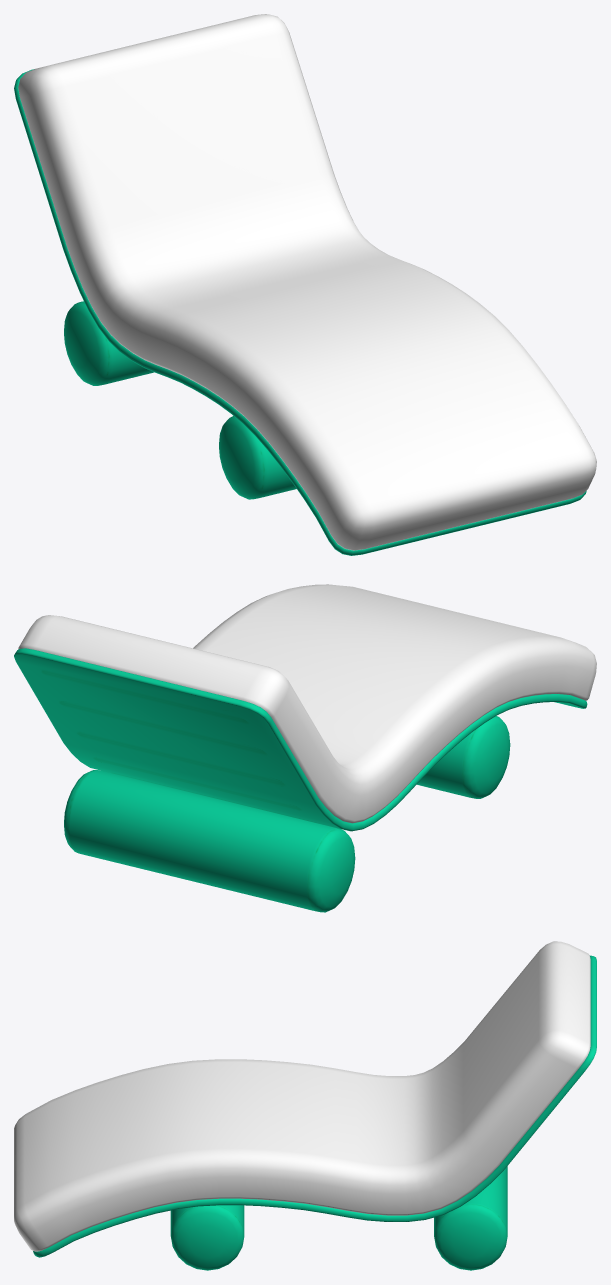
File: PoolLounger02_1.FBX
3 views of the same model, one above another, from view 1: azimuth 30°, elevation 25°; view 2: azimuth 150°, elevation 25°; view 3: azimuth 270°, elevation 25° (orthographic). The views are drawn at different scales.
Parts seen in each view (by area): view 1: PoolLounger02_1; view 2: PoolLounger02_1; view 3: PoolLounger02_1.
Boxes of the visible parts, bbox=[...] form: PoolLounger02_1: bbox=[14, 14, 596, 555]; PoolLounger02_1: bbox=[14, 584, 596, 912]; PoolLounger02_1: bbox=[14, 941, 596, 1270].
Size of what is drawn, in the model's own units: 0.7404 by 0.733 by 1.66.
